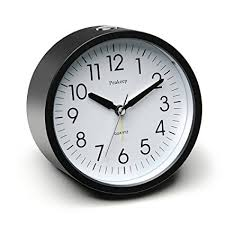alarm_clock: (16, 21, 206, 196), (16, 21, 201, 196), (24, 21, 201, 196)
